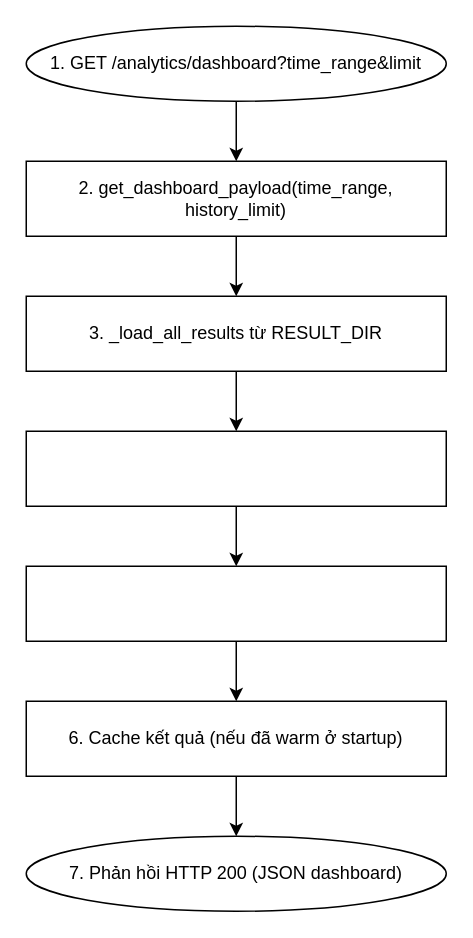
The diagram is 473 pixels wide and 938 high, and some of its shapes have lost their labels. The shapes that lost their labels are listed below. From the top down, each one's centre as x and y in pixels, then its label:
(235,468): 4. _filter_by_range (7d/30d/90d/all)
(235,603): 5. Tổng hợp metrics, timeseries, recent_activity
